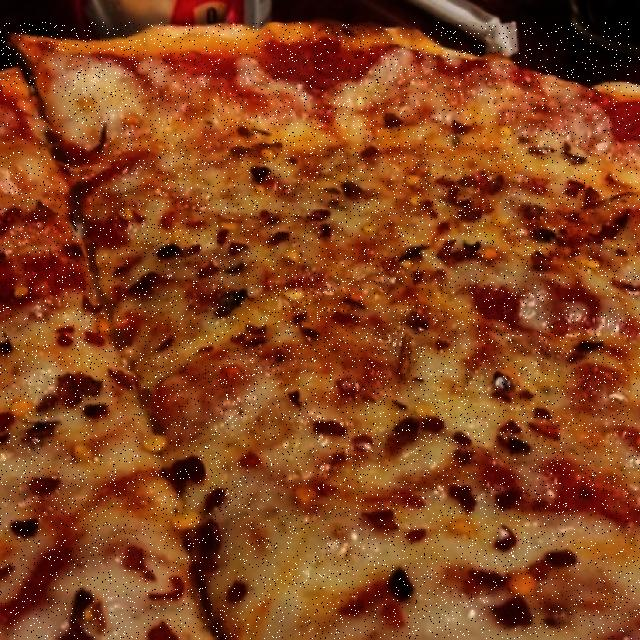Pizza: (0, 22, 640, 639)
